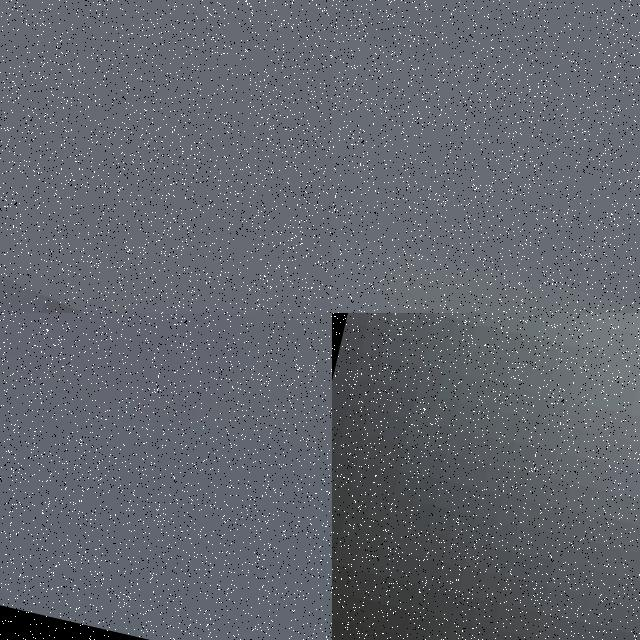drone: (0, 0, 332, 313)
